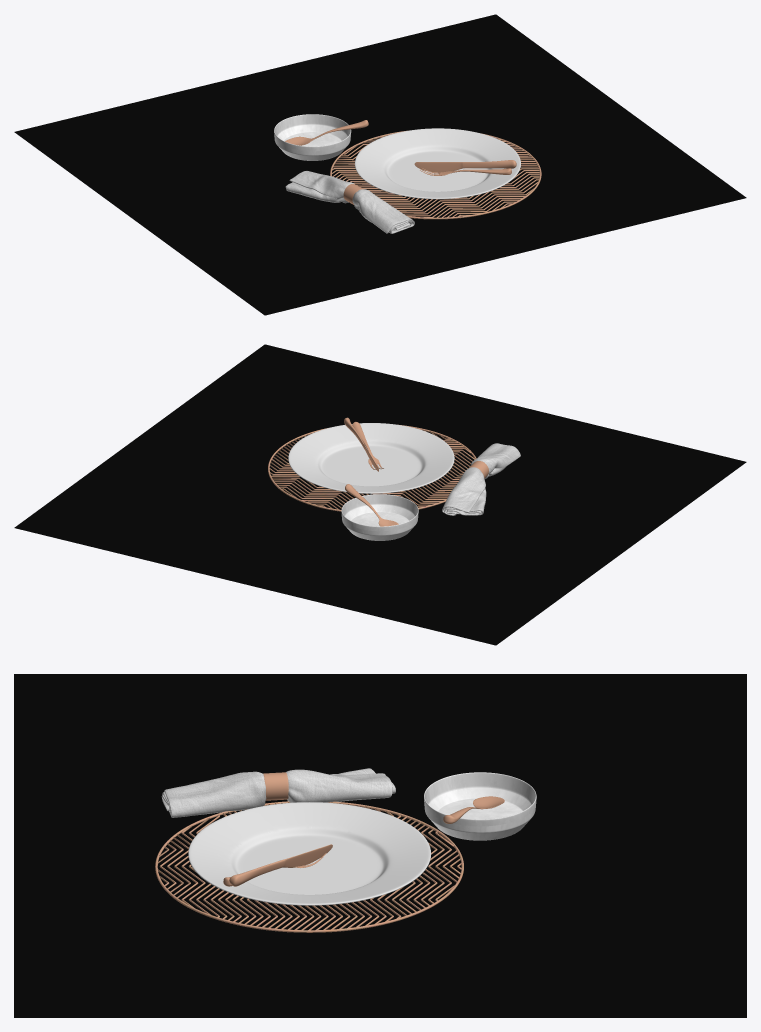
File: Dining_set.glb
The picture shows the model from 3 angles, top to bottom: view 1: azimuth 30°, elevation 25°; view 2: azimuth 150°, elevation 25°; view 3: azimuth 270°, elevation 25°; orthographic projection. The views are drawn at different scales.
Visible parts, largest first — view 1: Plane, Plate_Baked, DiningSet1.003_Baked, DiningSet1.009, DiningSet1.006, DiningSet1.007_Baked; view 2: Plane, Plate_Baked, DiningSet1.003_Baked, DiningSet1.006, DiningSet1.009; view 3: Plane, Plate_Baked, DiningSet1.003_Baked, DiningSet1.009, DiningSet1.006, DiningSet1.007_Baked, DiningSet1_Baked.
Part boxes in pixels (<box>): Plane: <box>14,14,746,315</box>; Plate_Baked: <box>355,128,520,199</box>; DiningSet1.003_Baked: <box>330,130,541,219</box>; DiningSet1.009: <box>285,171,414,233</box>; DiningSet1.006: <box>274,114,351,160</box>; DiningSet1.007_Baked: <box>414,160,516,172</box>; Plane: <box>14,344,746,645</box>; Plate_Baked: <box>288,423,454,493</box>; DiningSet1.003_Baked: <box>268,424,476,511</box>; DiningSet1.006: <box>341,494,418,540</box>; DiningSet1.009: <box>442,443,520,515</box>; Plane: <box>14,674,746,1017</box>; Plate_Baked: <box>188,802,431,905</box>; DiningSet1.003_Baked: <box>155,801,463,932</box>; DiningSet1.009: <box>161,768,395,817</box>; DiningSet1.006: <box>424,772,536,840</box>; DiningSet1.007_Baked: <box>229,844,332,886</box>; DiningSet1_Baked: <box>263,772,288,800</box>.
Bounding box in the file's own units: 1.07 × 0.0544 × 0.9685.
Materials: 9 (8 with a texture image).
